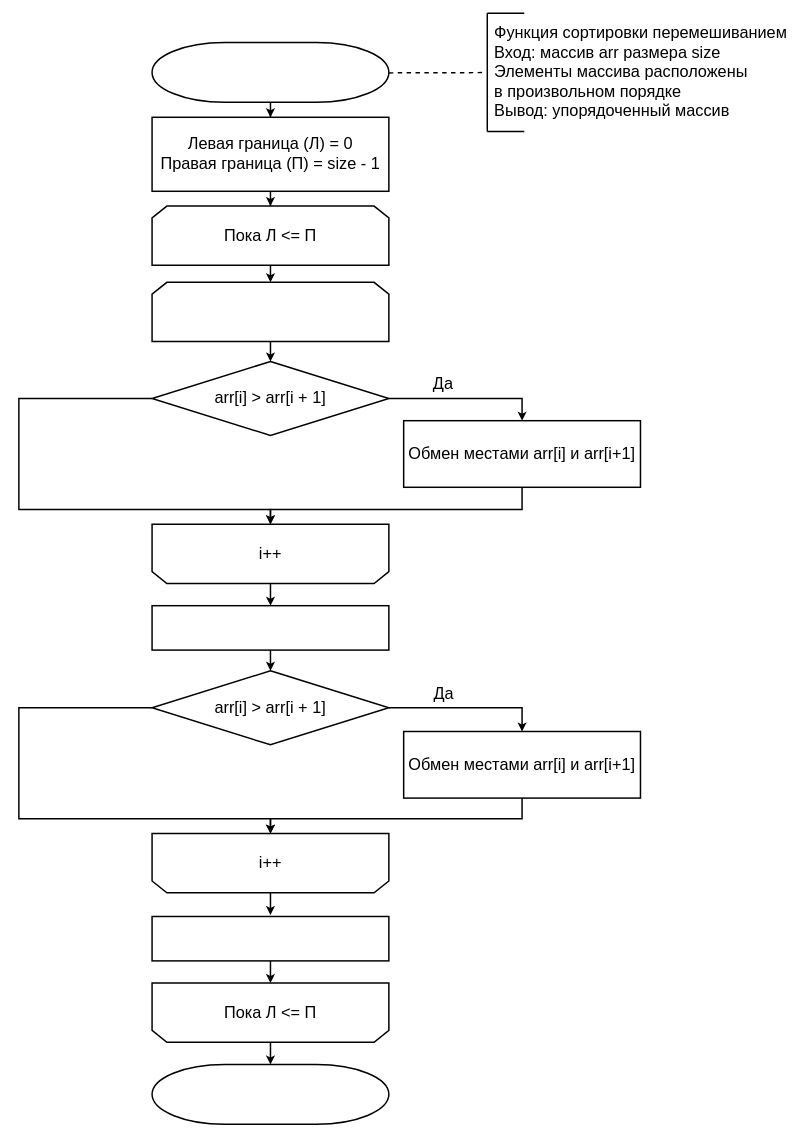
Some shapes in this 808 by 1138 pixel diagram are drawn without their labels. The centre of each missing label's shape, as x and y in pixels:
"Конец" belongs at point (270, 1094).
"Л++" belongs at point (270, 938).
"Начало" belongs at point (270, 72).
"П--" belongs at point (270, 627).
"Цикл от i := Л до П" belongs at point (270, 311).
